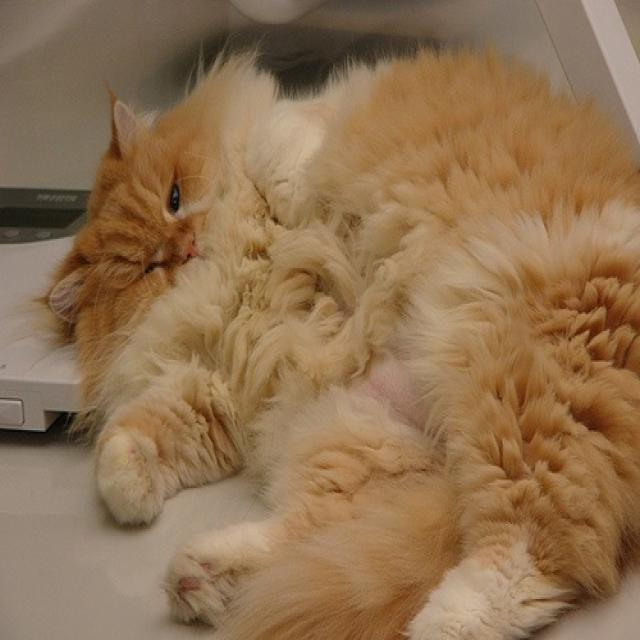cat: (43, 39, 638, 638)
